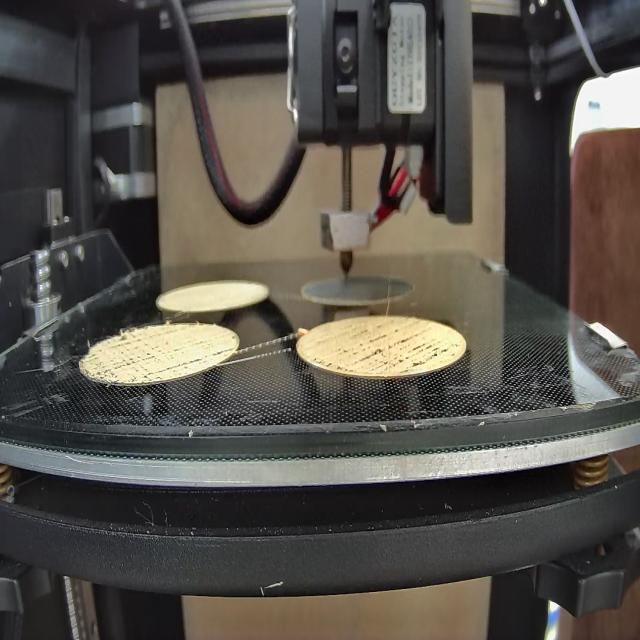under_extrusion: (313, 331, 459, 369), (88, 330, 153, 381), (161, 344, 235, 374)
